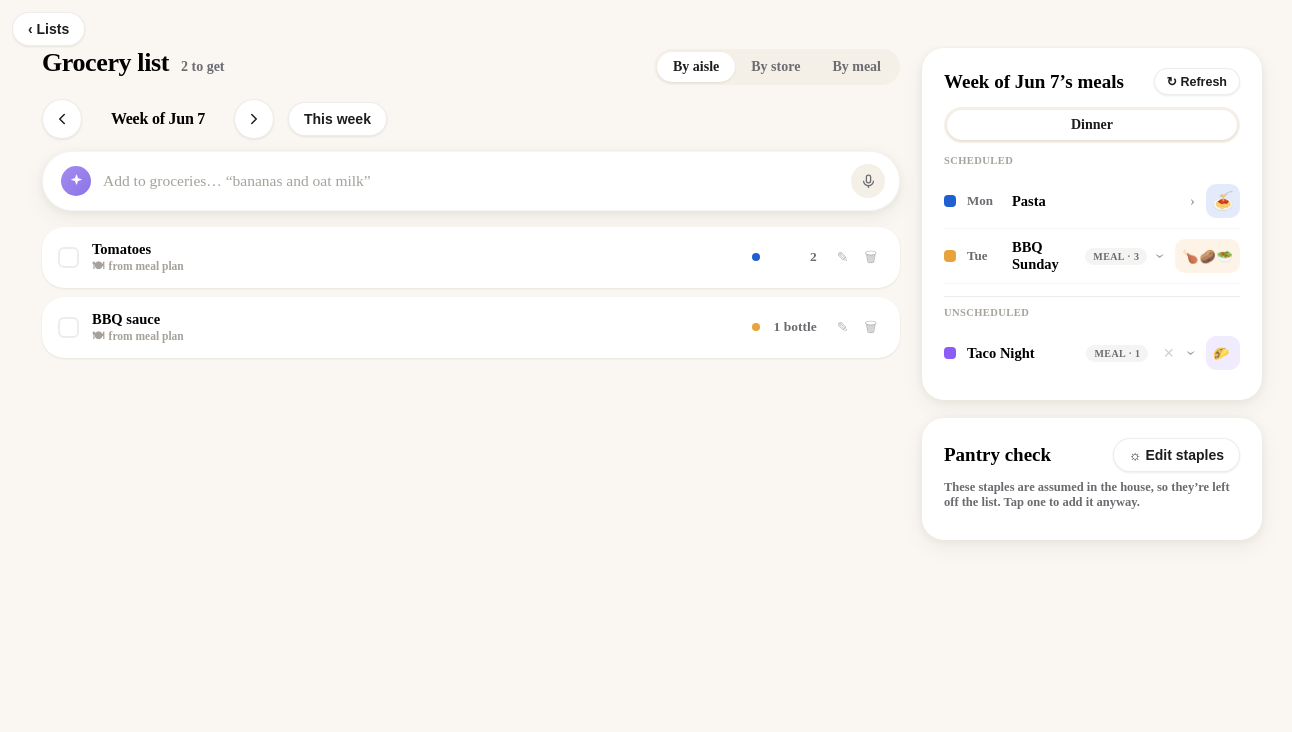
Scenario: GroceryBoard meal plates (week rail) › renders a dish of an unscheduled plate once, under its plate, not as a loose row
Expected: the text "BBQ sauce" is shown, x1=92 y1=311 x2=160 y2=327
Expected: the text "Carnitas" is not shown
Click the text "Taco Night" at [1001, 352], box x1=967 y1=344 x2=1034 y2=360
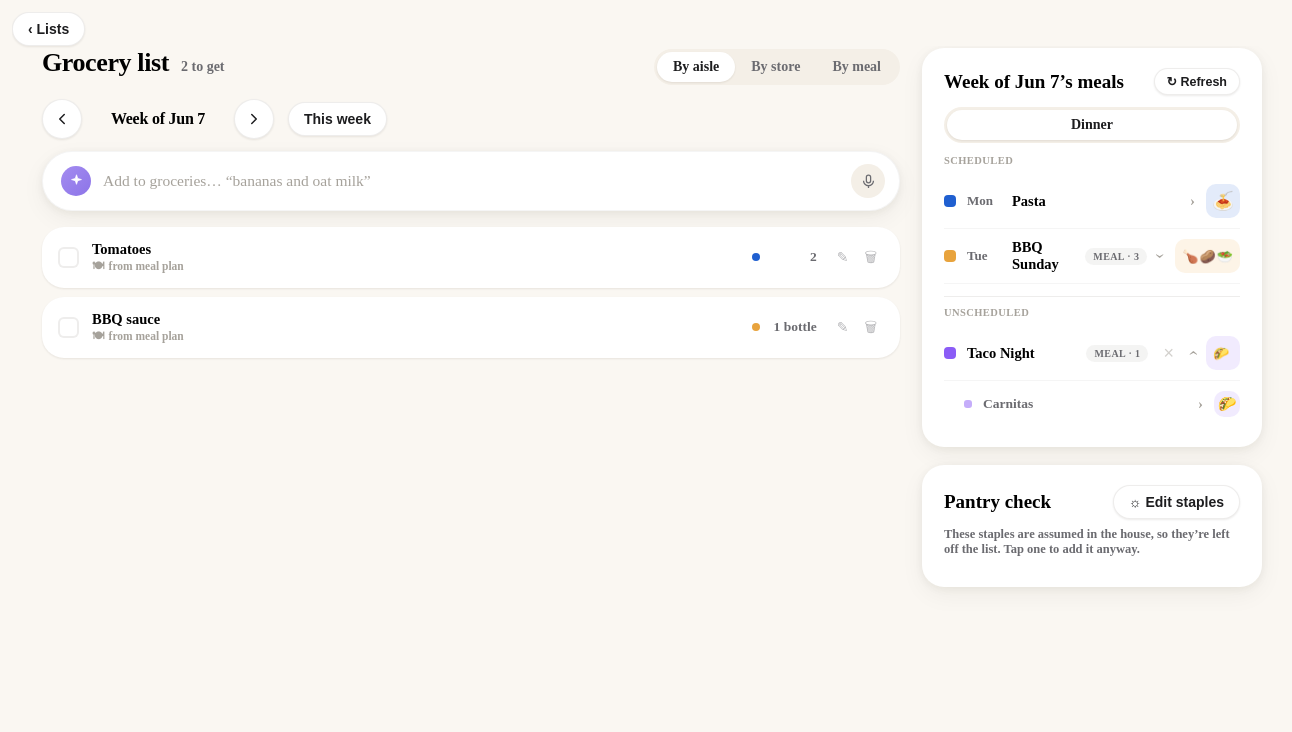
Expected: the text "Carnitas" is shown once, x1=983 y1=396 x2=1033 y2=411
